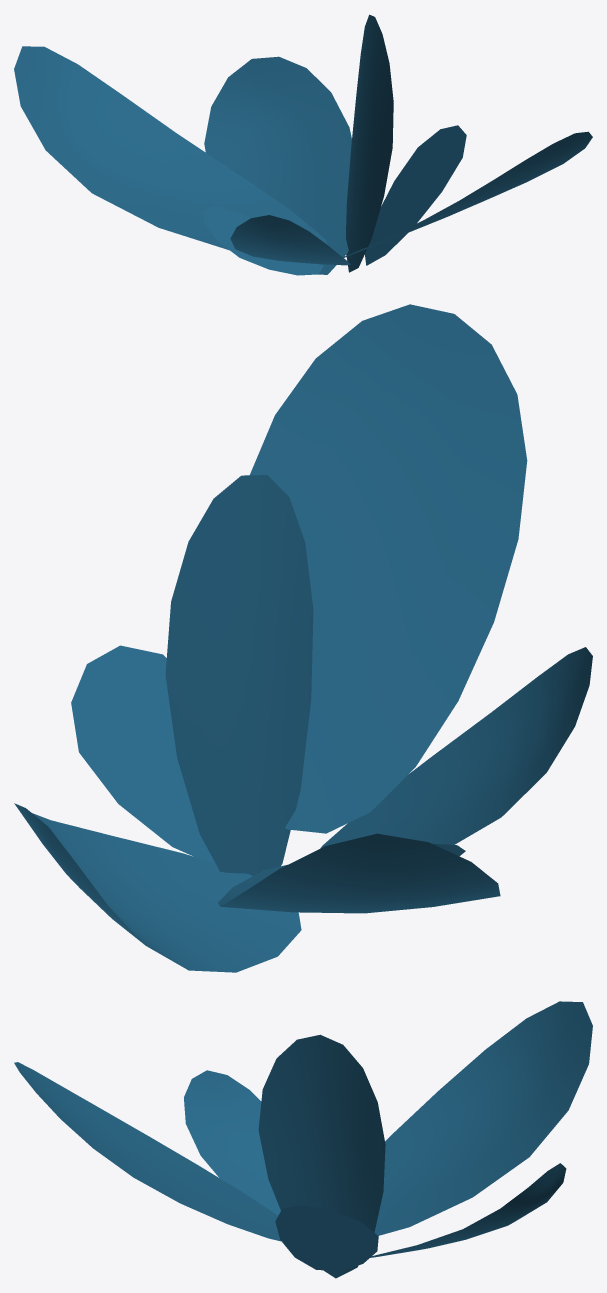
The model's file is bush2.glb.
3 views of the same model, one above another, from view 1: azimuth 30°, elevation 25°; view 2: azimuth 150°, elevation 25°; view 3: azimuth 270°, elevation 25° (orthographic). The views are drawn at different scales.
Visible parts, largest first — view 1: TropicalTree; view 2: TropicalTree; view 3: TropicalTree.
Part boxes in pixels (x1=…): TropicalTree: x1=14, y1=14, x2=592, y2=275; TropicalTree: x1=14, y1=304, x2=592, y2=972; TropicalTree: x1=14, y1=1001, x2=592, y2=1278.
Size of the model in its own units: 0.3829 by 0.2735 by 0.5682.
